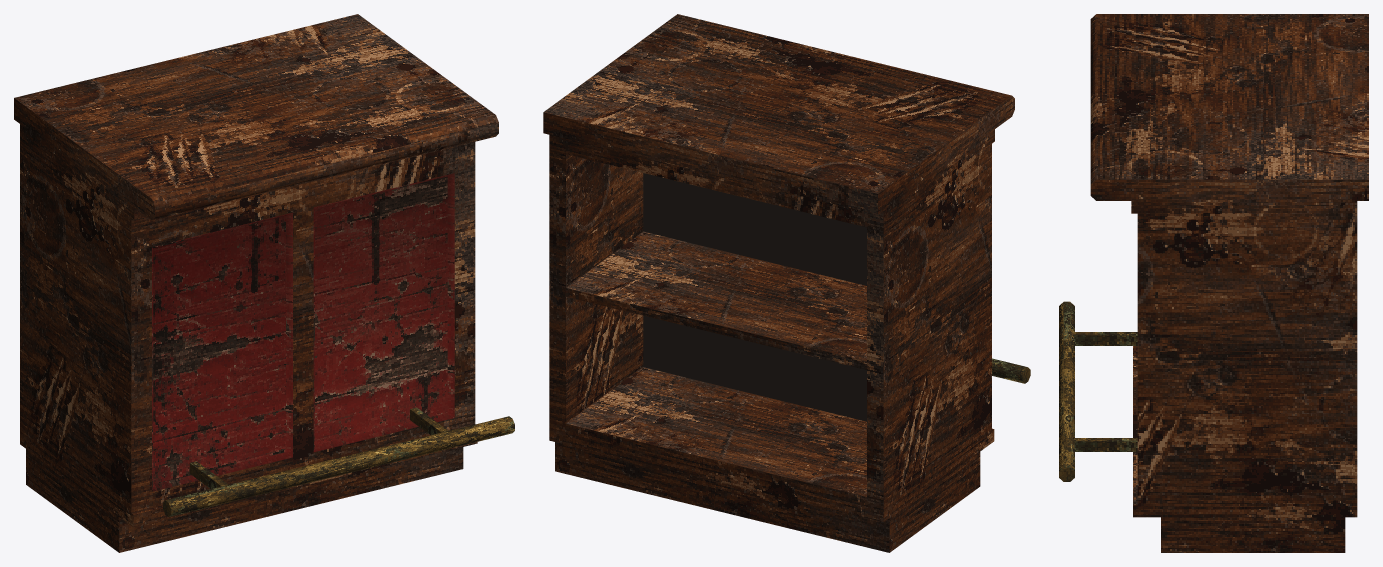
Rendered from HB_Counter_Straight.glb.
3 renders of one model, left to right at view 1: azimuth 30°, elevation 25°; view 2: azimuth 150°, elevation 25°; view 3: azimuth 270°, elevation 25°, orthographic. The views are drawn at different scales.
Visible parts, largest first — view 1: HB_Counter_Straight; view 2: HB_Counter_Straight; view 3: HB_Counter_Straight.
Part boxes in pixels (box(x1,y1,x2,y2)): HB_Counter_Straight: box(14, 14, 514, 552); HB_Counter_Straight: box(543, 14, 1030, 552); HB_Counter_Straight: box(1059, 14, 1368, 552).
Bounding box in the file's own units: 1 × 1.05 × 0.7903.
Materials: 3 (2 with a texture image).
